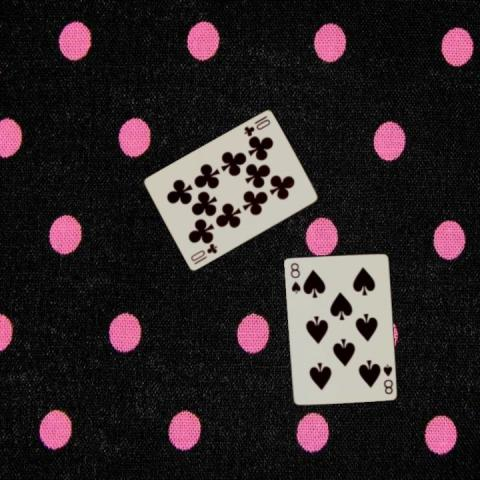10c: (187, 241, 219, 266), (241, 113, 272, 138)
8s: (380, 362, 394, 396), (288, 259, 301, 295)
